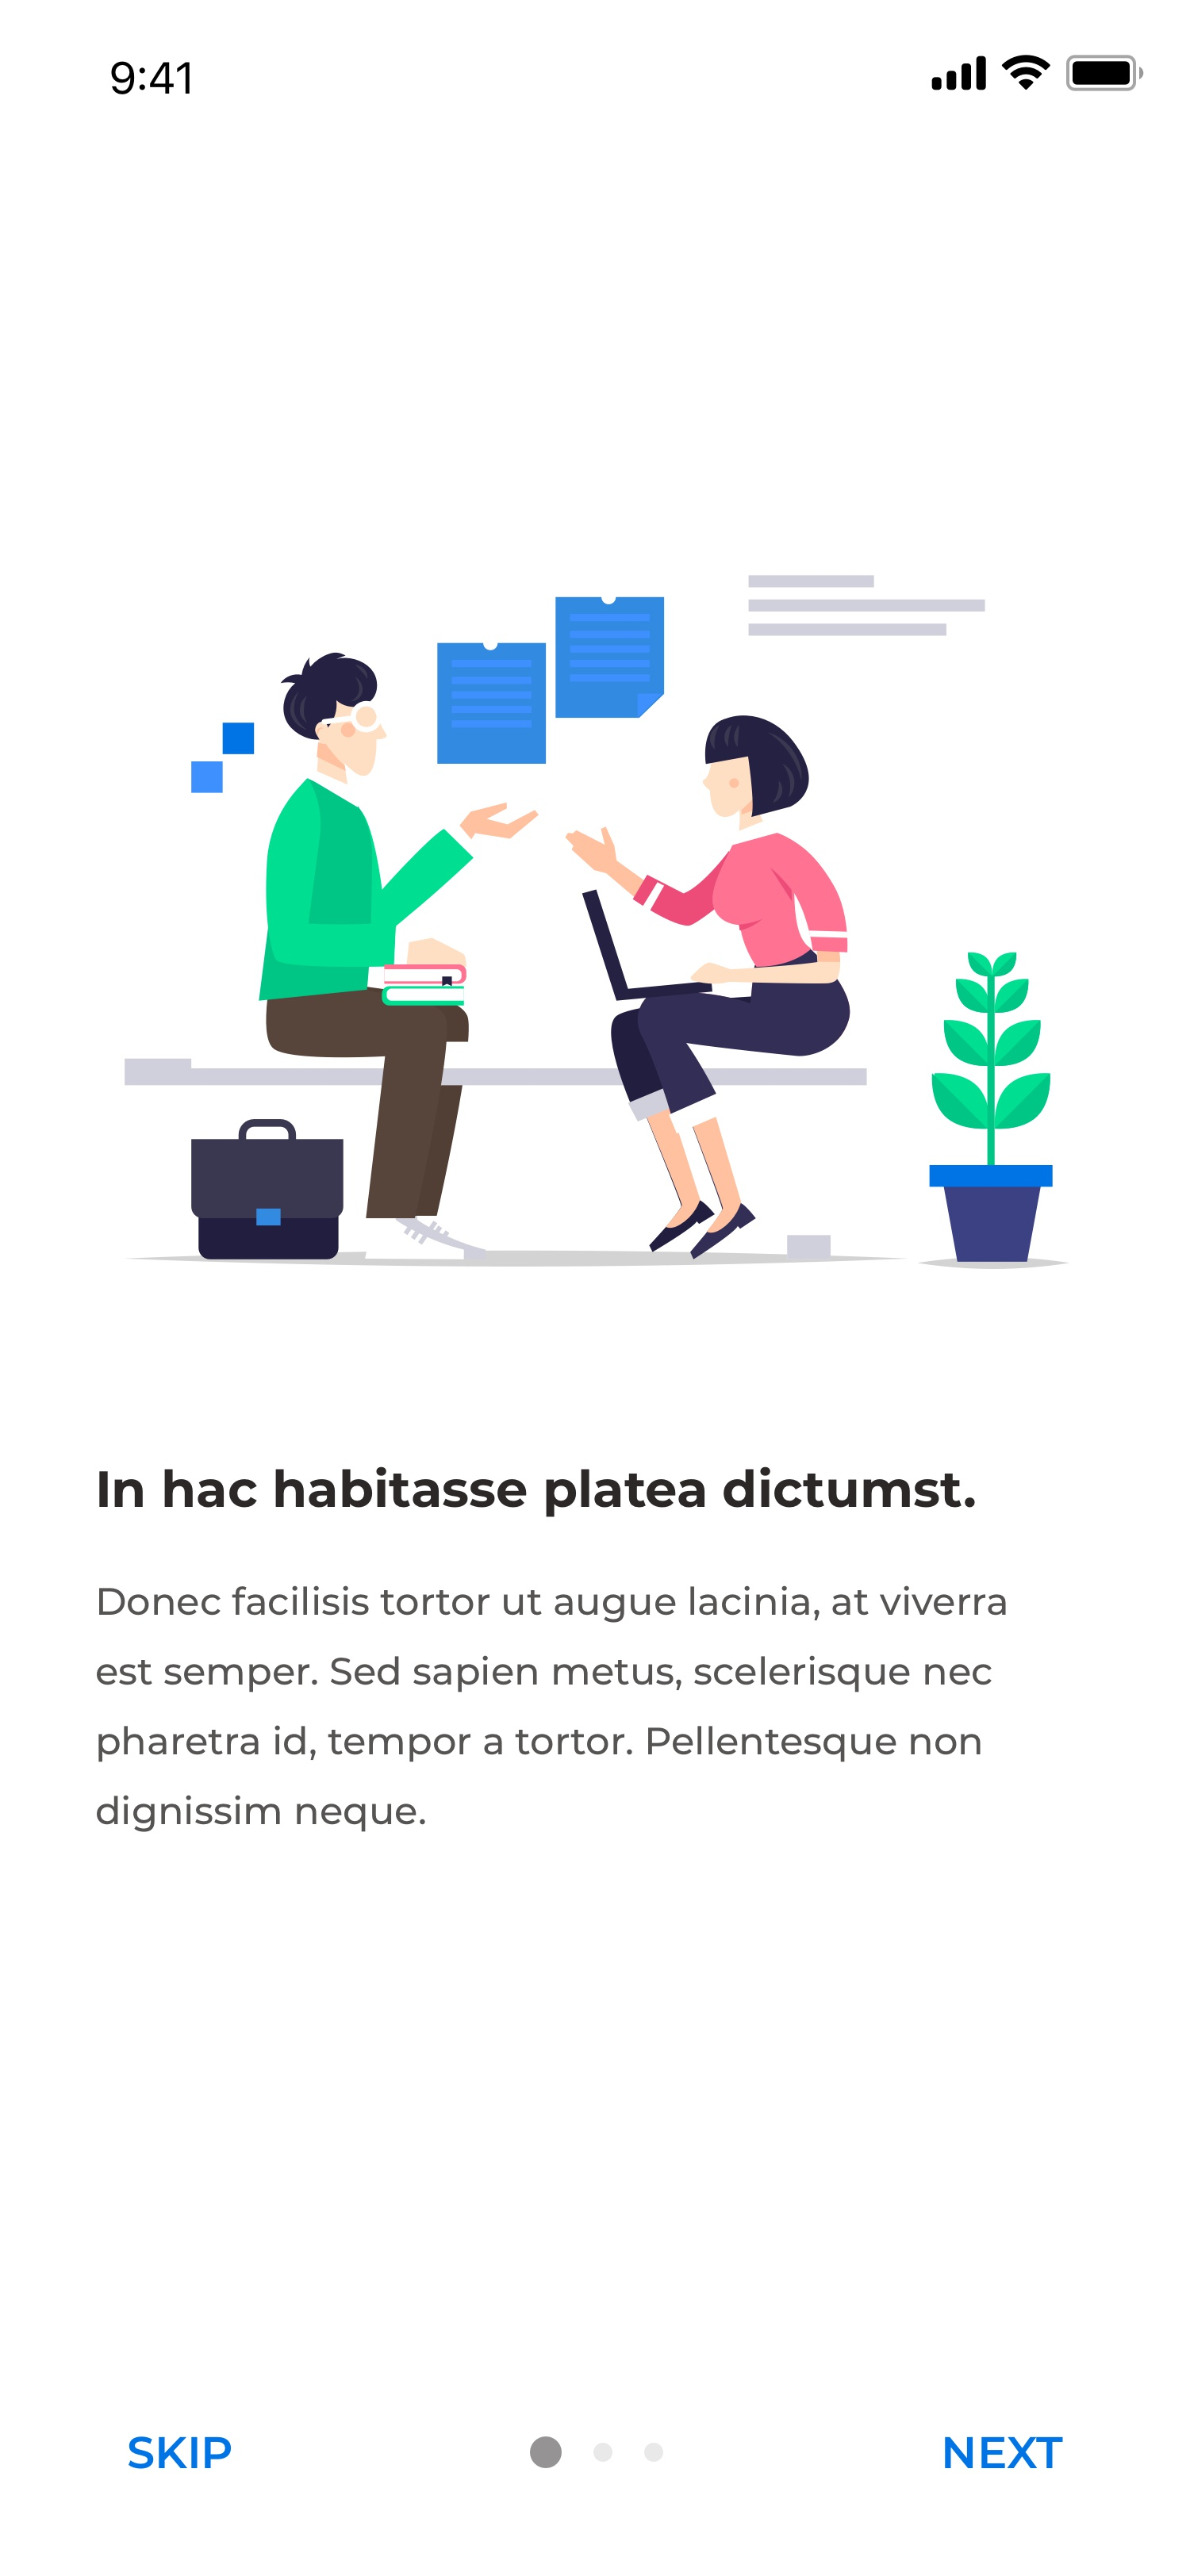Image: (123, 575, 1070, 1268)
PageIndicator: (529, 2435, 664, 2469)
Text: (95, 1585, 1008, 1833), (99, 1467, 976, 1518), (943, 2436, 1063, 2469), (128, 2436, 232, 2471)
UpperTaskBar: (112, 53, 1144, 95)
